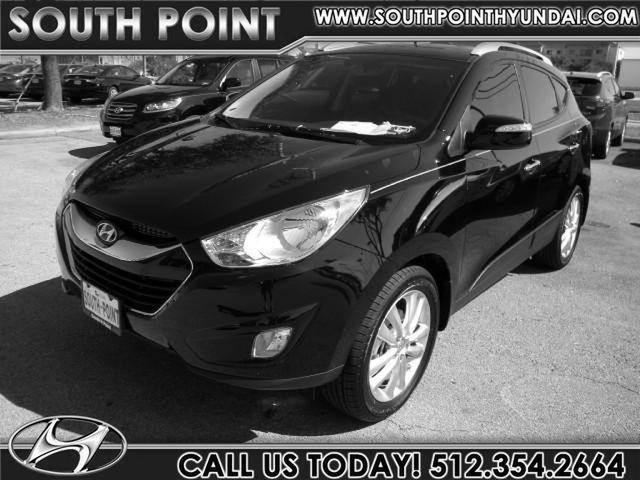car: (50, 42, 595, 423)
